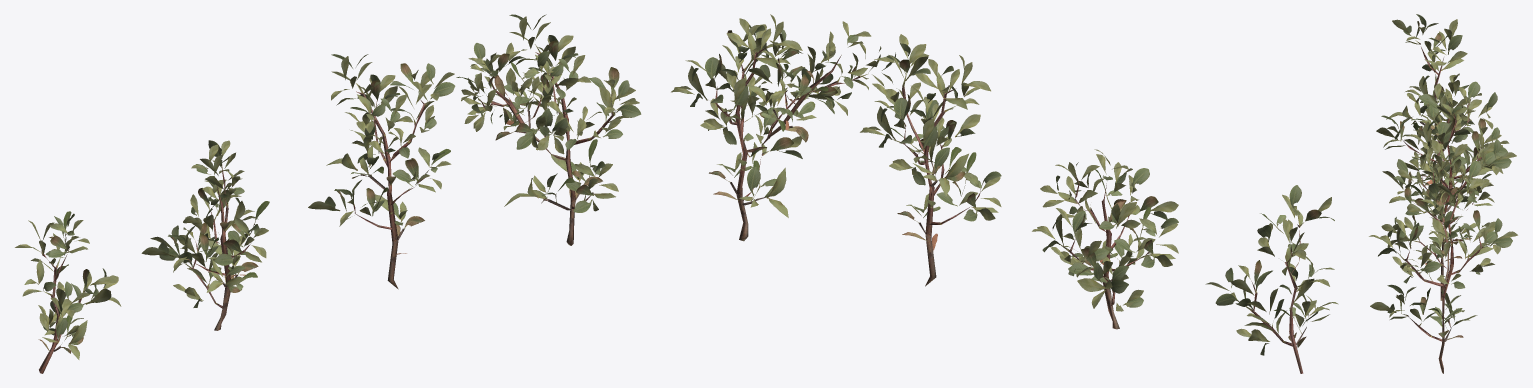
The model's file is shrub_04.glb.
3 renders of one model, left to right at view 1: azimuth 30°, elevation 25°; view 2: azimuth 150°, elevation 25°; view 3: azimuth 270°, elevation 25°, orthographic. The views are drawn at different scales.
Visible parts, largest first — view 1: shrub_04; view 2: shrub_04; view 3: shrub_04.
Part boxes in pixels (x1=…): shrub_04: x1=15, y1=14, x2=641, y2=373; shrub_04: x1=671, y1=14, x2=1338, y2=373; shrub_04: x1=1369, y1=14, x2=1517, y2=373.
Bounding box in the file's own units: 0.5837 × 0.2185 × 0.1461.
Materials: 1 (1 with a texture image).
